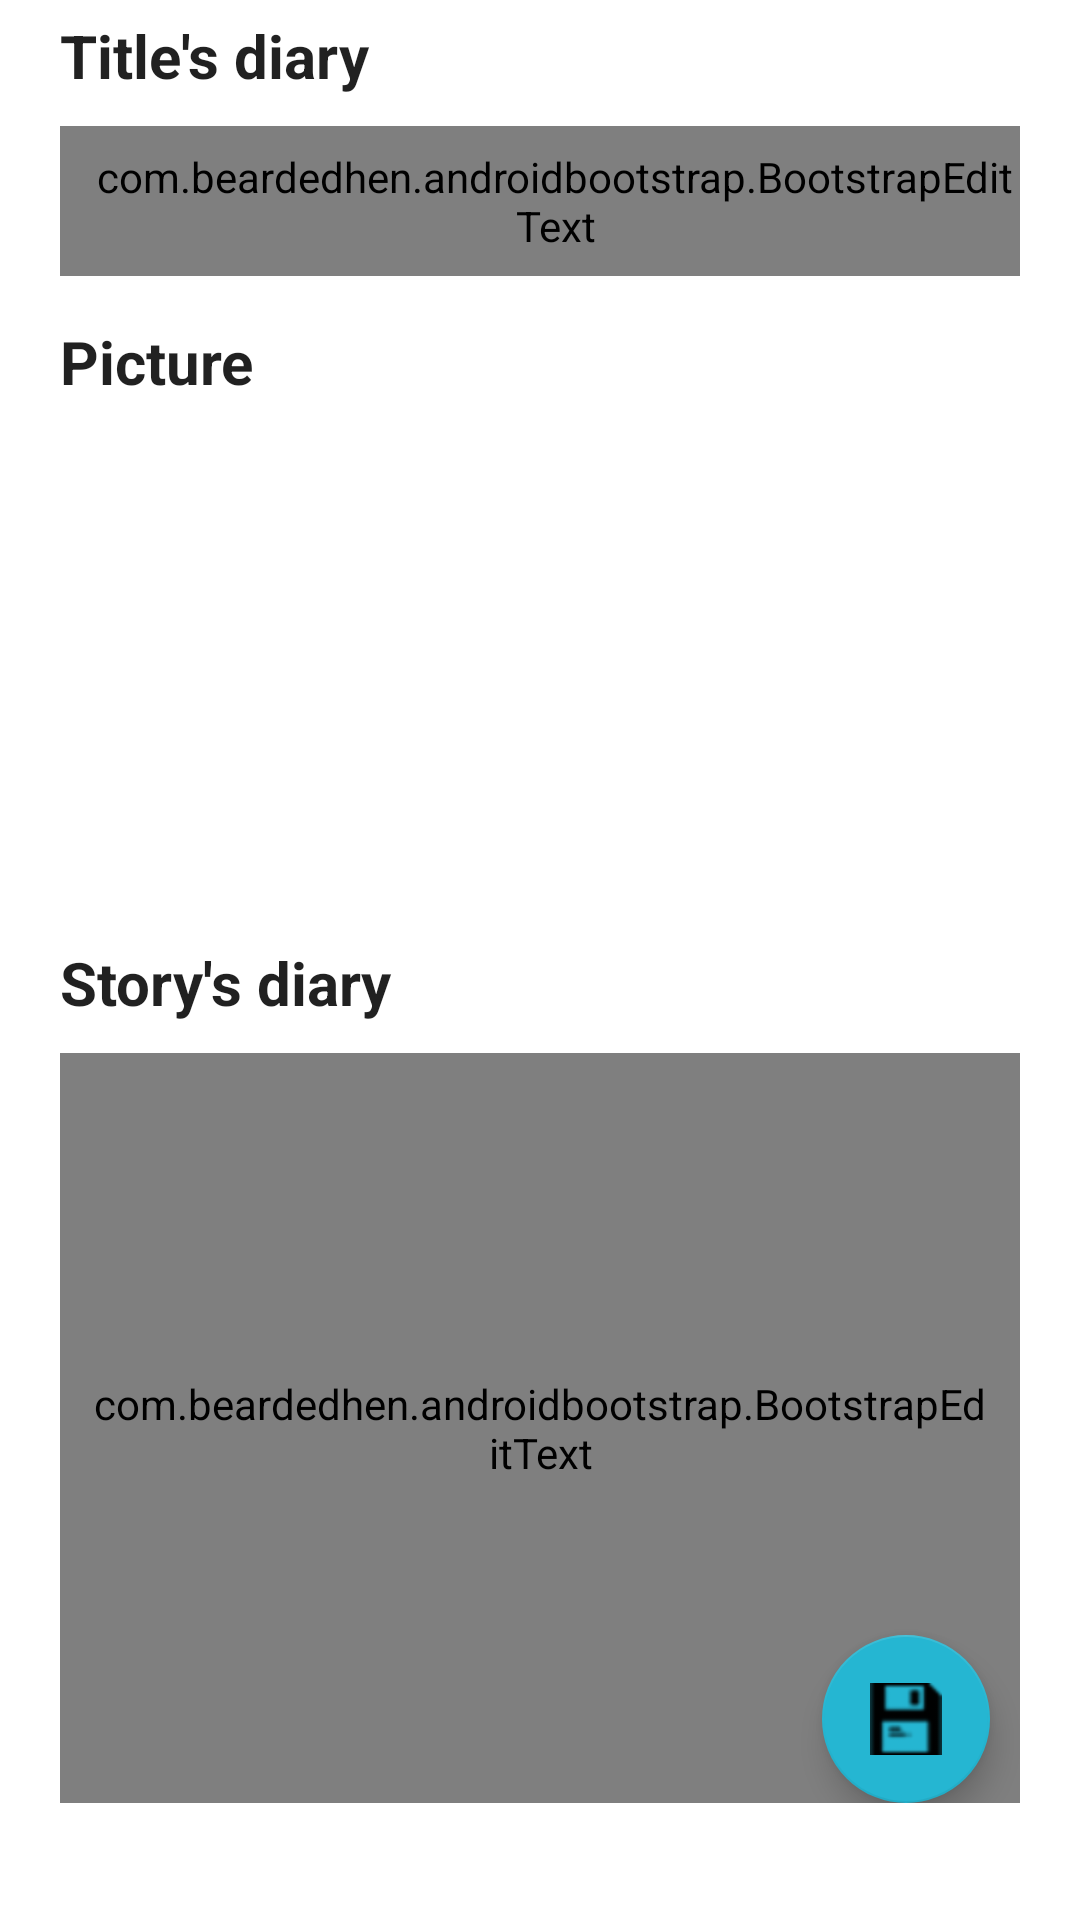

Named icons in this screenshot (1080px×1920px) and their centers, point (x, y):
save: point (906, 1719)
